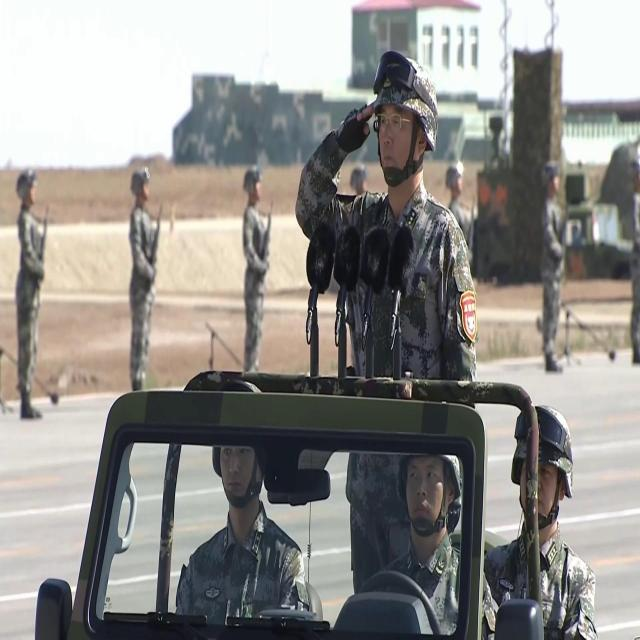Soldier: (297, 51, 474, 593), (178, 438, 320, 624), (491, 412, 596, 640), (378, 444, 498, 640), (10, 163, 48, 417), (123, 164, 163, 395), (234, 162, 274, 382), (536, 152, 566, 387)
